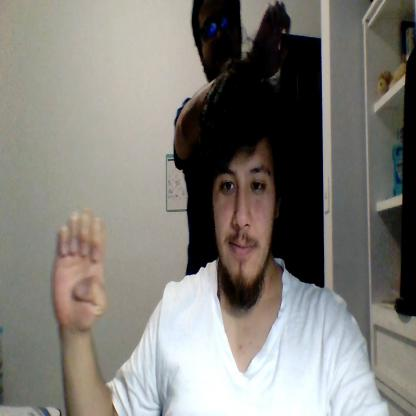E: (51, 211, 107, 332)
